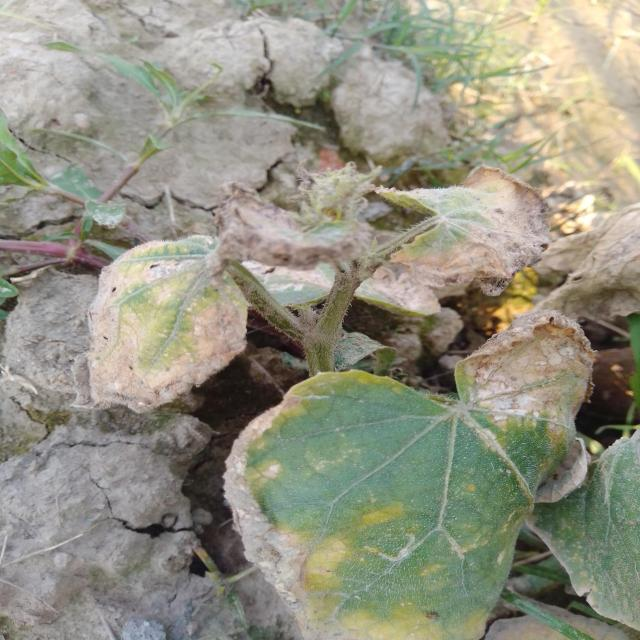cucumber_bacterial: (249, 312, 640, 640), (70, 220, 256, 432), (389, 152, 568, 308), (265, 126, 367, 294), (527, 183, 640, 330)
